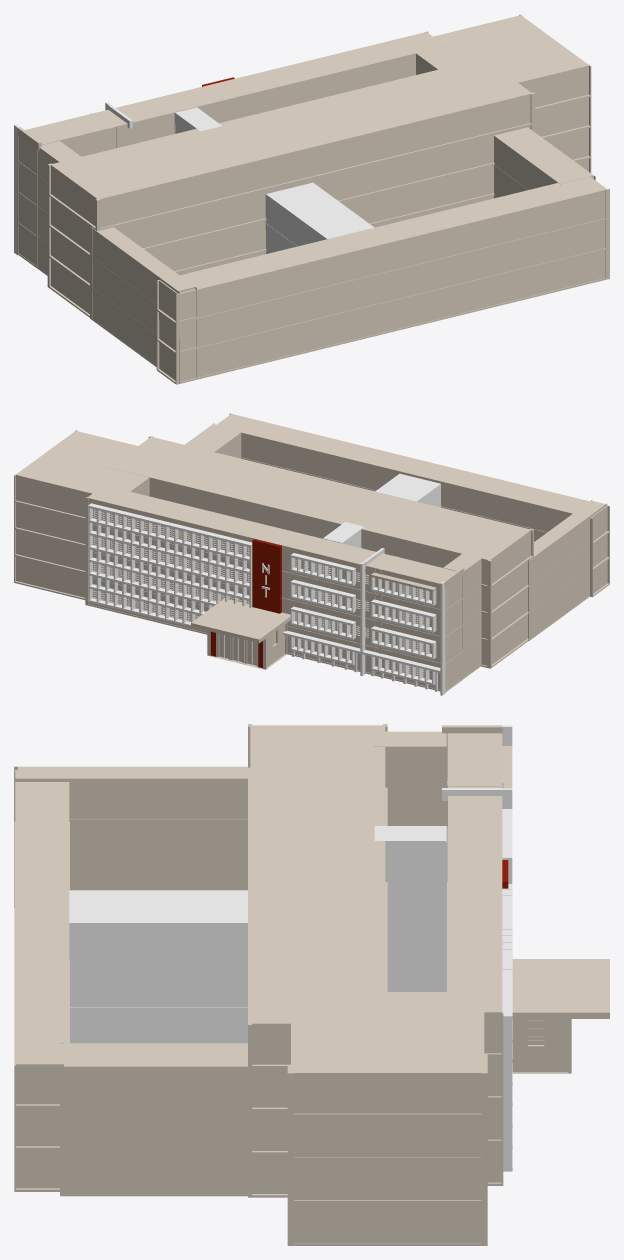
Rendered from main_building.fbx.
3 renders of one model, top to bottom at view 1: azimuth 30°, elevation 25°; view 2: azimuth 150°, elevation 25°; view 3: azimuth 270°, elevation 25°, orthographic. The views are drawn at different scales.
Visible parts, largest first — view 1: building_003, building_003_009, building_003_001, building_003_002, building_003_007, building_003_010, building_003_005, building_003_008, building_003_003, building_003_004, Cube_067; view 2: building_003, building_003_001, building_003_009, building_003_002, building_003_010, building_003_007, Cube_001, building_003_003, Cube, Plane, building_003_005, building_003_008 (+19 smaller); view 3: building_003, building_003_002, building_003_008, building_003_005, building_003_007, building_003_009, building_003_001, building_003_004, building_003_003, Cube_001, Plane, building_003_010 (+2 smaller).
Part boxes in pixels (bbox=[...]): building_003: bbox=[47, 57, 535, 317]; building_003_009: bbox=[156, 177, 609, 384]; building_003_001: bbox=[90, 31, 447, 149]; building_003_002: bbox=[416, 14, 591, 173]; building_003_007: bbox=[90, 227, 196, 383]; building_003_010: bbox=[17, 112, 117, 268]; building_003_005: bbox=[265, 182, 374, 253]; building_003_008: bbox=[493, 127, 595, 198]; building_003_003: bbox=[37, 140, 85, 275]; building_003_004: bbox=[174, 107, 222, 133]; Cube_067: bbox=[14, 124, 19, 255]; building_003: bbox=[107, 436, 533, 668]; building_003_001: bbox=[85, 485, 397, 676]; building_003_009: bbox=[217, 413, 609, 597]; building_003_002: bbox=[14, 430, 149, 599]; building_003_010: bbox=[375, 555, 462, 692]; building_003_007: bbox=[527, 500, 607, 641]; Cube_001: bbox=[191, 598, 290, 643]; building_003_003: bbox=[443, 551, 484, 679]; Cube: bbox=[252, 539, 281, 613]; Plane: bbox=[207, 623, 287, 669]; building_003_005: bbox=[375, 473, 440, 507]; building_003_008: bbox=[185, 423, 243, 458]; building_003: bbox=[248, 724, 387, 1197]; building_003_002: bbox=[287, 992, 487, 1245]; building_003_008: bbox=[60, 1043, 247, 1196]; building_003_005: bbox=[69, 890, 247, 1043]; building_003_007: bbox=[14, 766, 247, 907]; building_003_009: bbox=[14, 770, 69, 1191]; building_003_001: bbox=[447, 781, 503, 1185]; building_003_004: bbox=[373, 826, 447, 991]; building_003_003: bbox=[374, 731, 447, 825]; Cube_001: bbox=[512, 959, 609, 1018]; Plane: bbox=[512, 1019, 571, 1073]; building_003_010: bbox=[447, 733, 503, 826].
Bounding box in the file's own units: 7961 × 1956 × 5698.
